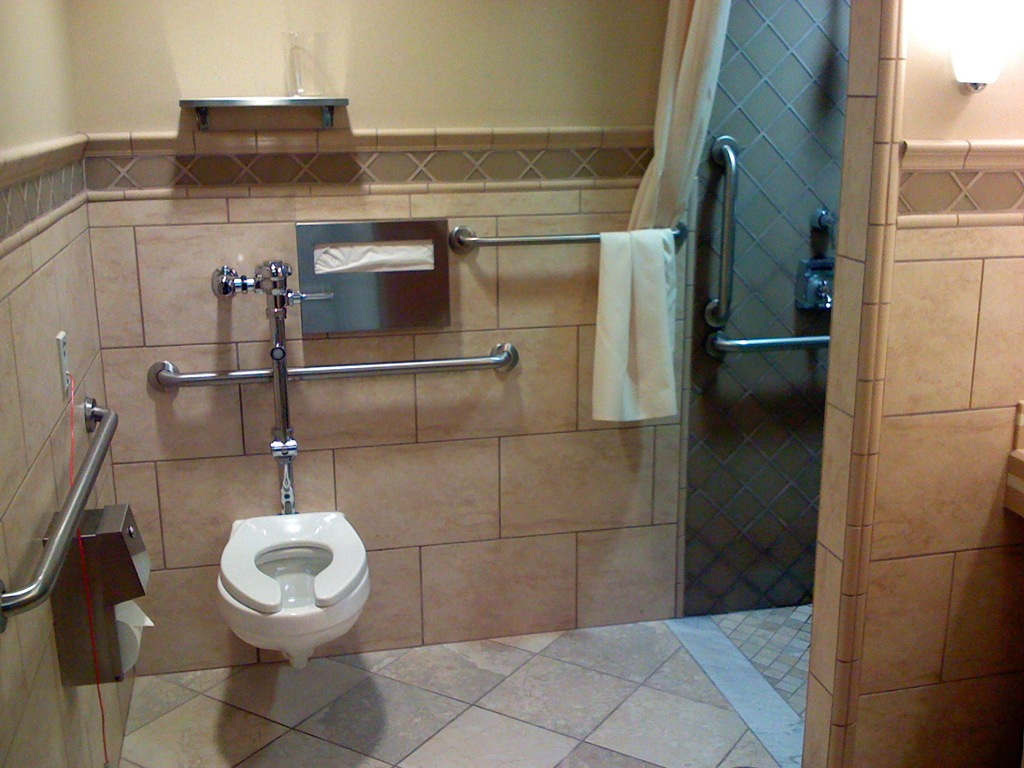dispenser: (38, 497, 150, 695), (288, 212, 457, 338)
restroom_assist_bar: (1, 401, 120, 619), (147, 340, 519, 396), (702, 132, 746, 330), (448, 223, 695, 254), (701, 326, 834, 359)
toilet: (216, 513, 373, 671)
toilet_handle: (274, 284, 339, 305)
